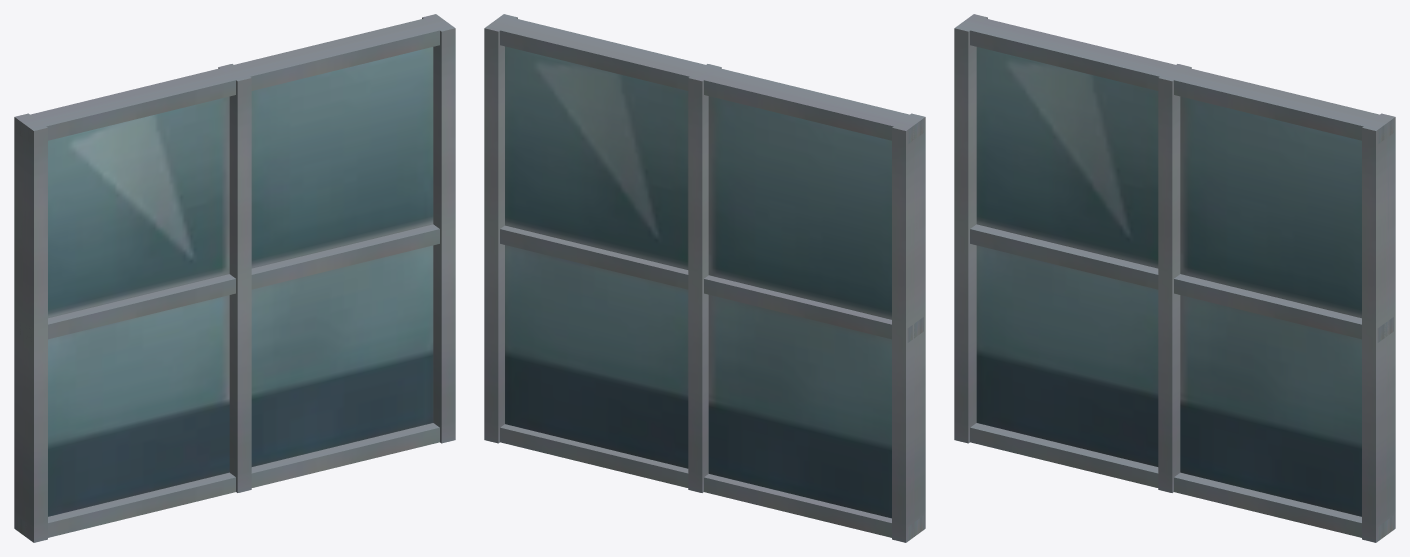
File: debris_tokyo_curtain_wall.glb
3 views of the same model, side by side, from view 1: azimuth 30°, elevation 25°; view 2: azimuth 150°, elevation 25°; view 3: azimuth 330°, elevation 25° (orthographic).
Parts seen in each view (by area): view 1: debris_tokyo_curtain_wall; view 2: debris_tokyo_curtain_wall; view 3: debris_tokyo_curtain_wall.
Part boxes in pixels (x1=…): debris_tokyo_curtain_wall: x1=14, y1=14, x2=455, y2=542; debris_tokyo_curtain_wall: x1=484, y1=14, x2=925, y2=542; debris_tokyo_curtain_wall: x1=954, y1=14, x2=1395, y2=542.
Size of the model in its own units: 3 by 2.8 by 0.2399.
1 material, 1 textured.
